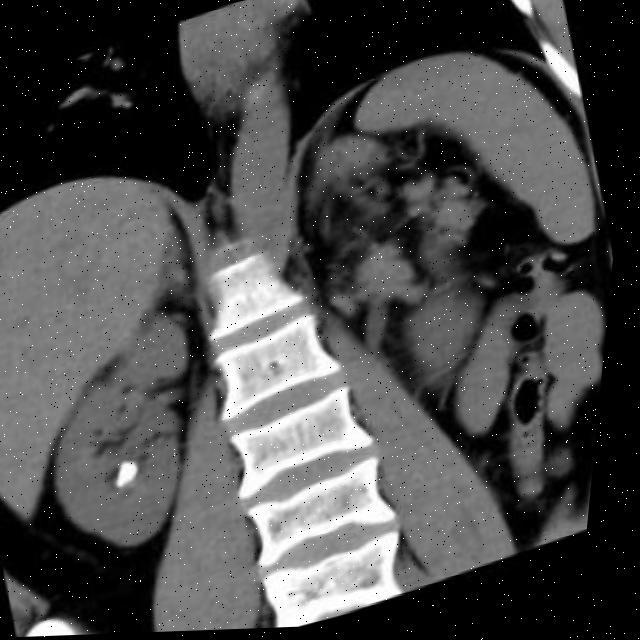Tas_Var: (111, 452, 165, 496)
